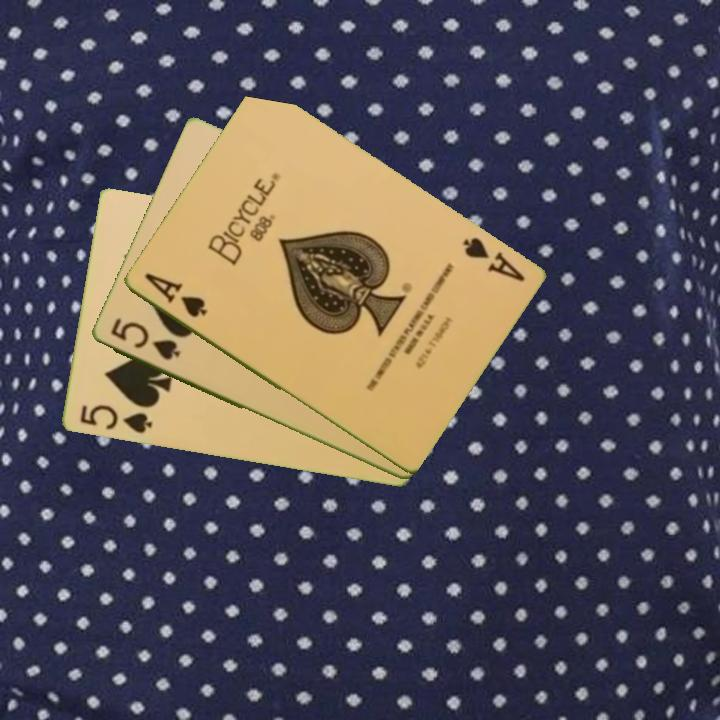5s: (106, 314, 183, 364), (76, 401, 155, 437)
As: (140, 269, 210, 321), (458, 233, 527, 285)
